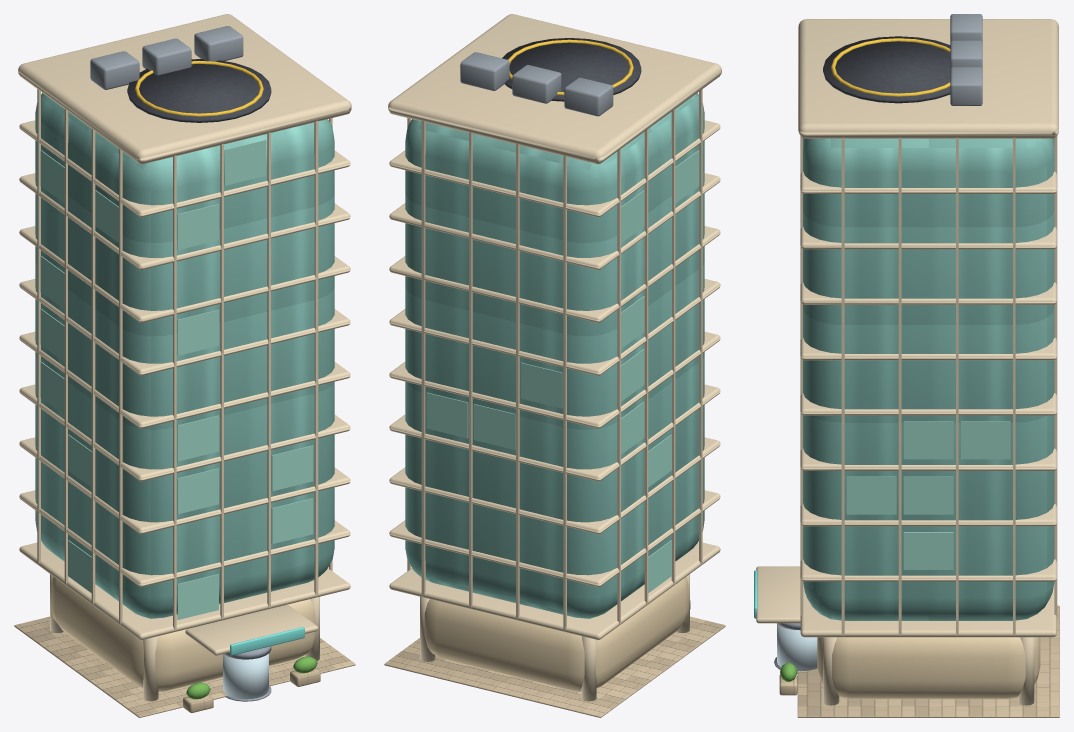
File: tower_c.gltf
The picture shows the model from 3 angles, left to right: view 1: azimuth 30°, elevation 25°; view 2: azimuth 150°, elevation 25°; view 3: azimuth 270°, elevation 25°; orthographic projection. The views are drawn at different scales.
Visible parts, largest first — view 1: tower_c_mesh; view 2: tower_c_mesh; view 3: tower_c_mesh.
Part boxes in pixels (x1,y1,x2,y2): tower_c_mesh: (14, 14, 355, 717); tower_c_mesh: (384, 14, 725, 717); tower_c_mesh: (754, 14, 1059, 717).
Size of what is drawn, in the model's own units: 14.6 by 37.7 by 17.02.
Materials: 11 (3 with a texture image).
